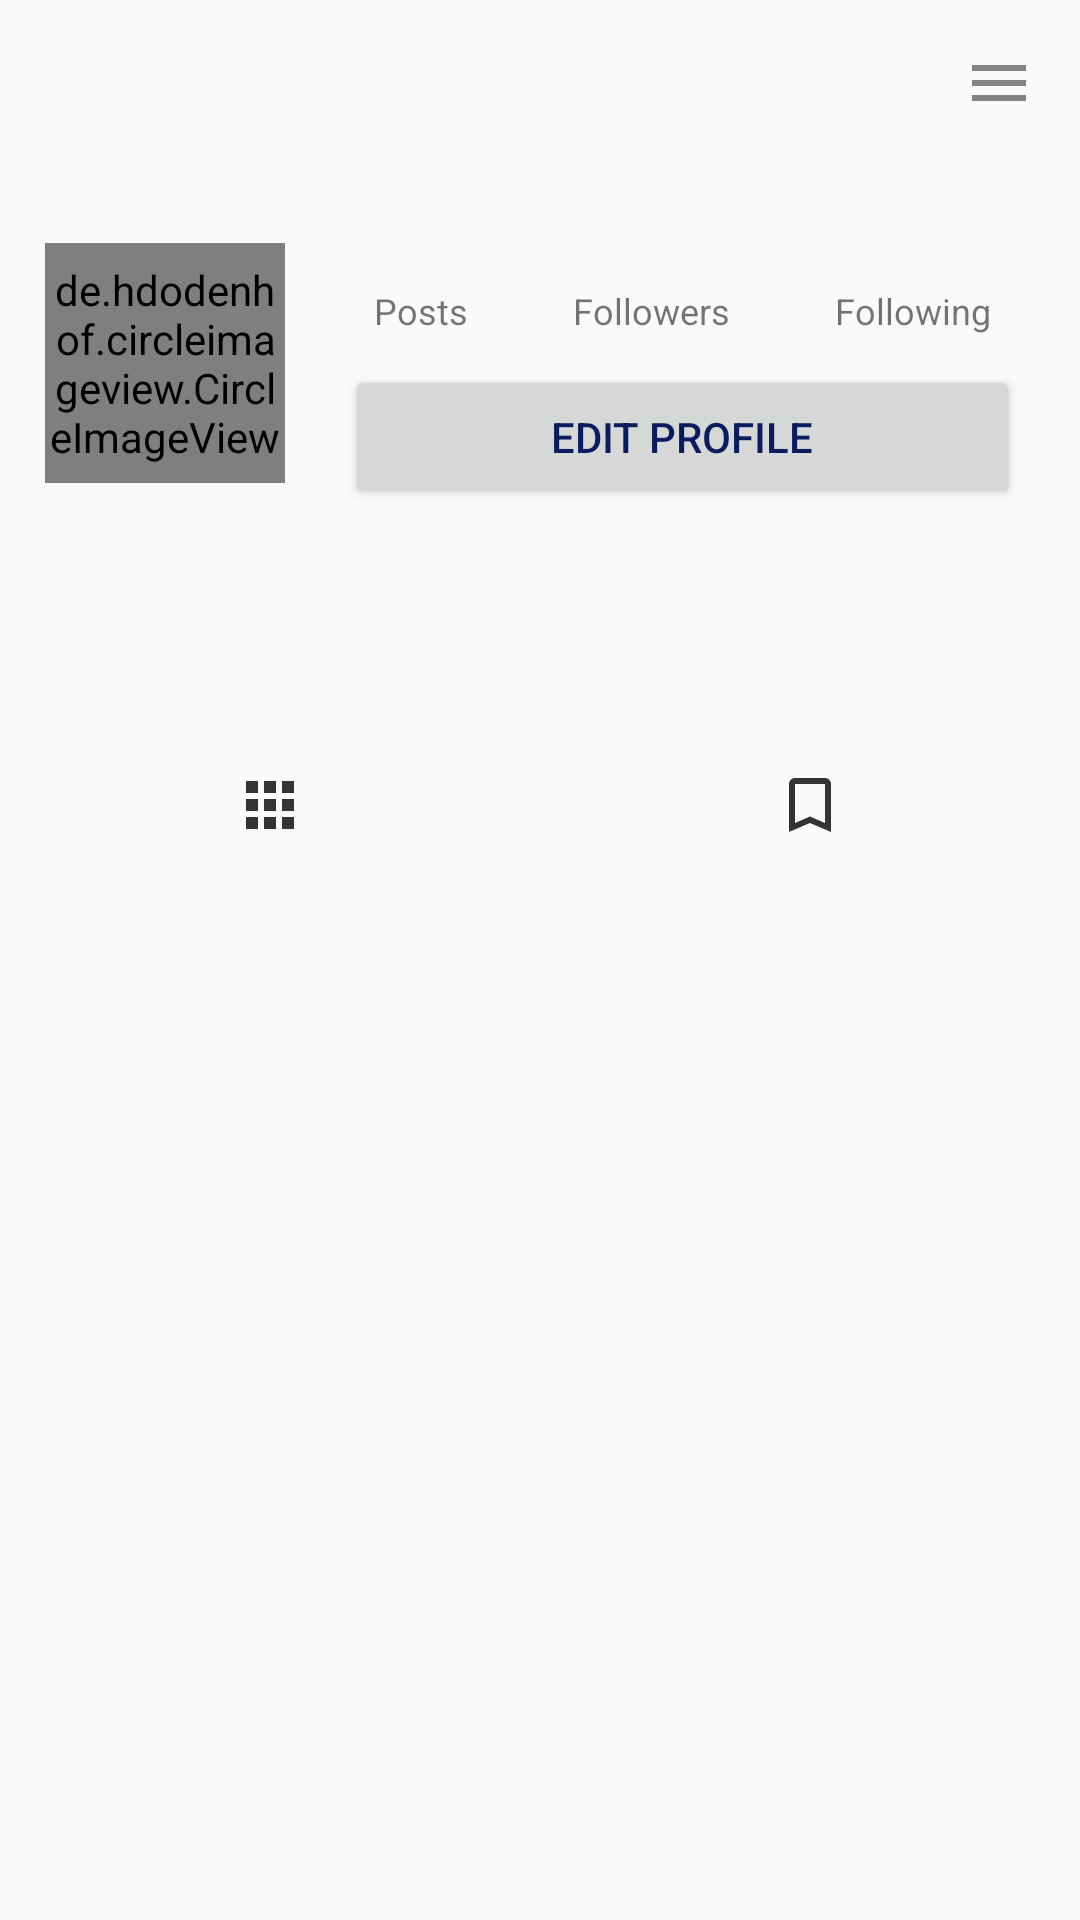

Where icons sit on this 1080px x 1920px app screen, as (x1, y1, x2, y2):
options: (972, 65, 1026, 101)
save: (789, 778, 831, 832)
